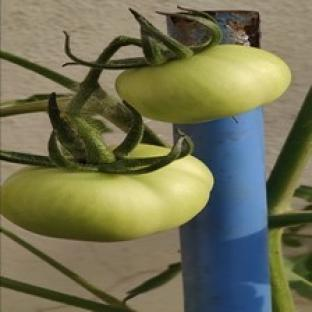Tomato: (2, 156, 213, 240), (116, 45, 291, 122)
